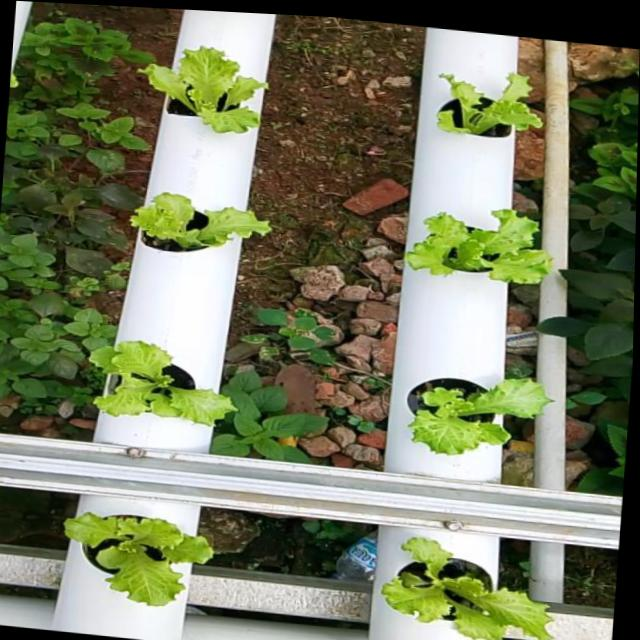Baby: (389, 532, 562, 637), (69, 495, 219, 606), (93, 339, 244, 426), (406, 378, 553, 456), (405, 209, 554, 285), (137, 46, 267, 133), (129, 193, 271, 253), (438, 73, 543, 138)
